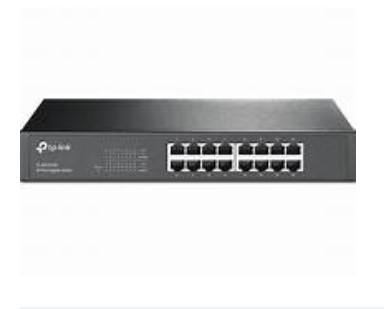NetworkSwitch: (19, 98, 357, 185)
